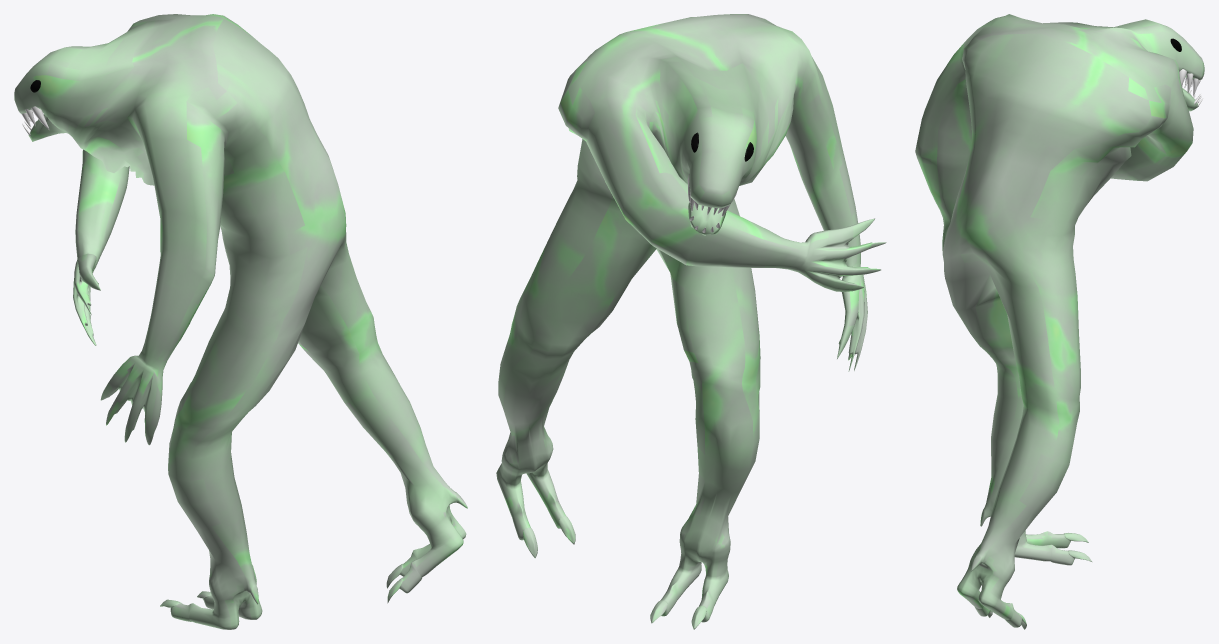
Rendered from Berserkeraranar.0047.obj.
3 views of the same model, side by side, from view 1: azimuth 30°, elevation 25°; view 2: azimuth 150°, elevation 25°; view 3: azimuth 270°, elevation 25° (orthographic). The views are drawn at different scales.
Visible parts, largest first — view 1: polySurface27; view 2: polySurface27; view 3: polySurface27.
Part boxes in pixels (box(x1,y1,x2,y2)): polySurface27: box(14, 14, 467, 629); polySurface27: box(496, 14, 886, 629); polySurface27: box(915, 14, 1204, 629).
Size of the model in its own units: 14.6 by 21.47 by 10.73.
Materials: 1 (1 with a texture image).
